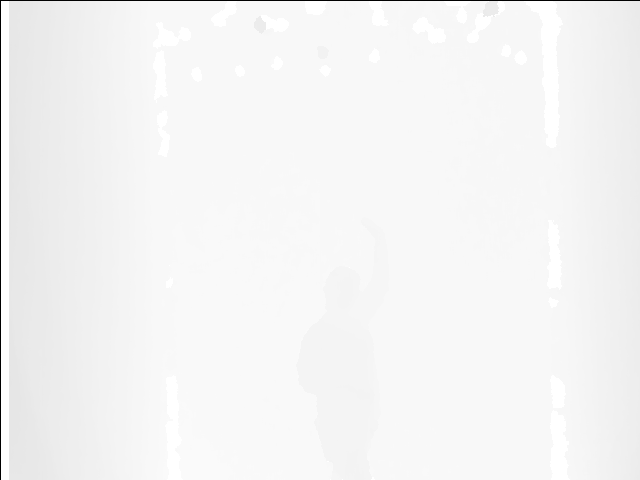hand: (355, 209, 397, 243)
